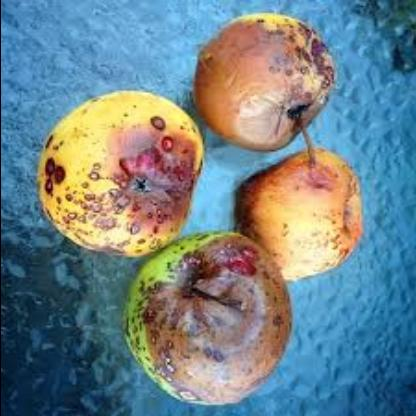defect: (120, 226, 302, 410), (37, 108, 212, 258), (180, 15, 340, 157), (241, 140, 377, 294)
